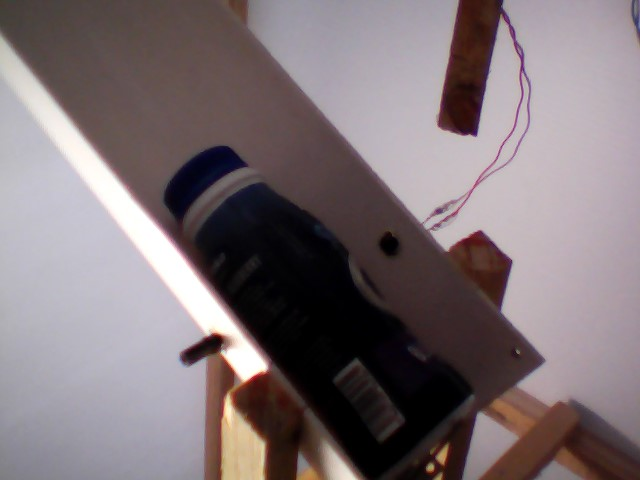plastico: (161, 145, 480, 480)
